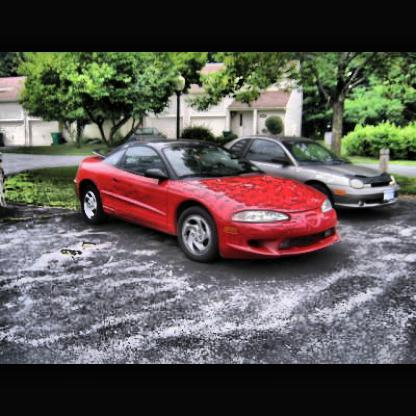Eagle Talon Hatchback 1998: (79, 138, 342, 264)
